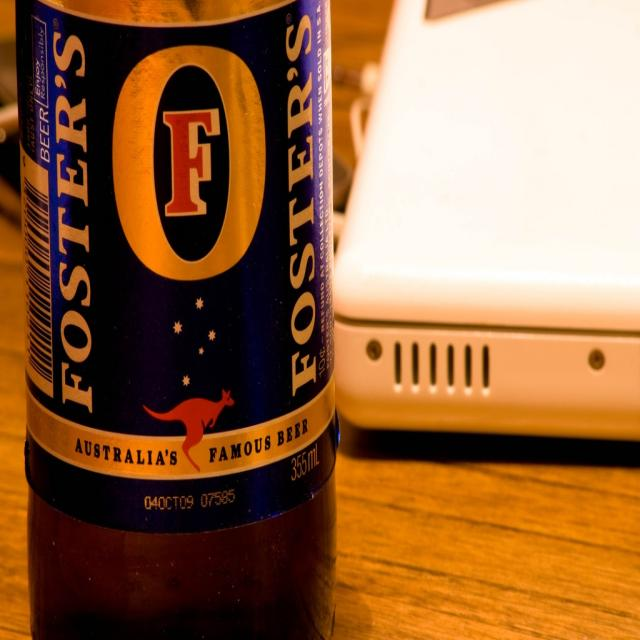fosters: (111, 40, 272, 286)
